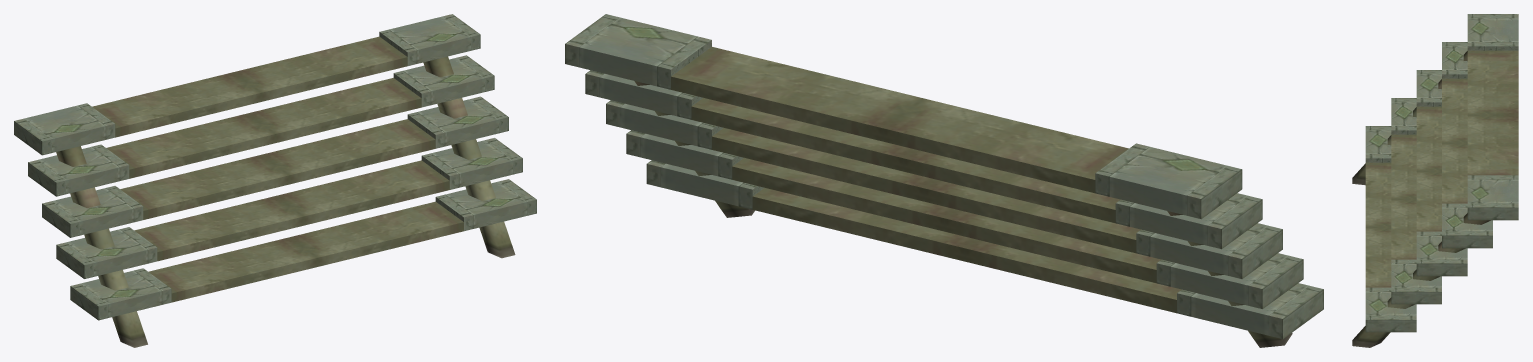
Rendered from stair-02.fbx.
3 renders of one model, left to right at view 1: azimuth 30°, elevation 25°; view 2: azimuth 150°, elevation 25°; view 3: azimuth 270°, elevation 25°, orthographic. The views are drawn at different scales.
Visible parts, largest first — view 1: Cube.187; view 2: Cube.187; view 3: Cube.187.
Part boxes in pixels (x1,y1,x2,y2): Cube.187: (14,14,536,347); Cube.187: (565,14,1323,347); Cube.187: (1352,14,1518,347).
Bounding box in the file's own units: 3 × 1.09 × 1.09.
